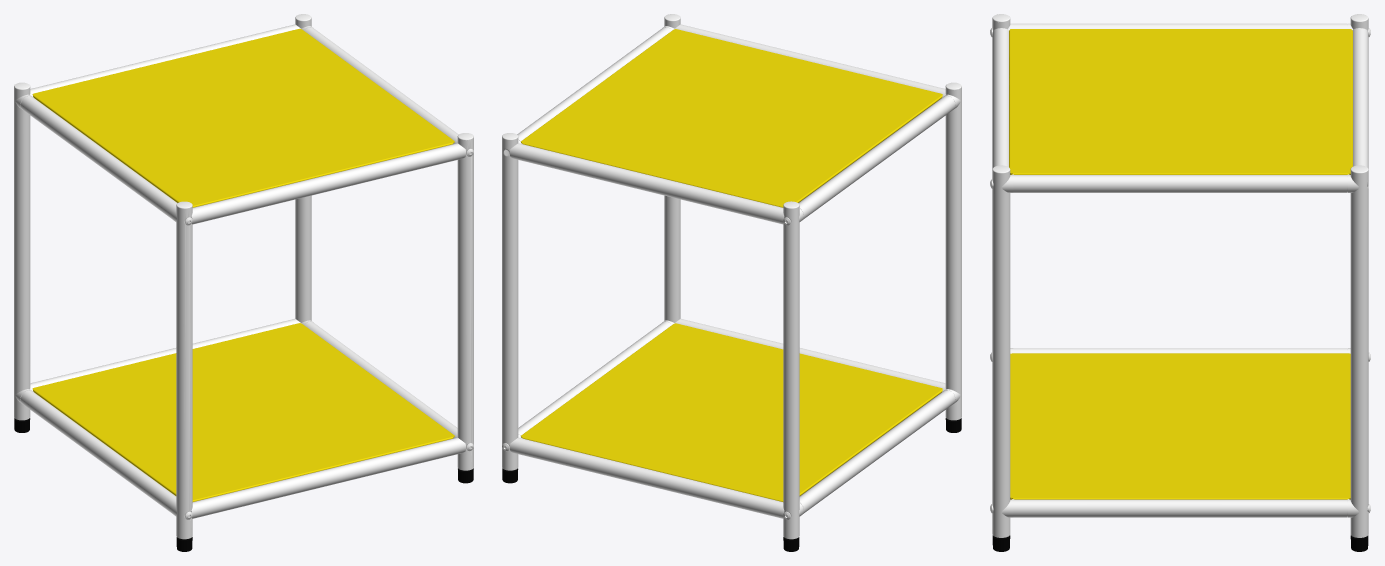
Rendered from 40x40x40-2-1-yellow_optimized_optimized.glb.
The picture shows the model from 3 angles, left to right: view 1: azimuth 30°, elevation 25°; view 2: azimuth 150°, elevation 25°; view 3: azimuth 270°, elevation 25°; orthographic projection. The views are drawn at different scales.
Visible parts, largest first — view 1: 直角鐵板-40x40-5 - 零件, 反-鐵管-40-354..4-1 - 零件, 圓形腳+調整器-1 - 零件; view 2: 直角鐵板-40x40-5 - 零件, 反-鐵管-40-354..4-1 - 零件, 圓形腳+調整器-1 - 零件; view 3: 直角鐵板-40x40-5 - 零件, 反-鐵管-40-354..4-1 - 零件, 圓形腳+調整器-1 - 零件.
Boxes of the visible parts, left/top/right/bottom form: 直角鐵板-40x40-5 - 零件: left=32, top=28, right=454, bottom=501; 反-鐵管-40-354..4-1 - 零件: left=14, top=14, right=473, bottom=539; 圓形腳+調整器-1 - 零件: left=14, top=418, right=473, bottom=551; 直角鐵板-40x40-5 - 零件: left=521, top=29, right=942, bottom=501; 反-鐵管-40-354..4-1 - 零件: left=502, top=14, right=961, bottom=539; 圓形腳+調整器-1 - 零件: left=502, top=418, right=961, bottom=551; 直角鐵板-40x40-5 - 零件: left=1009, top=29, right=1352, bottom=499; 反-鐵管-40-354..4-1 - 零件: left=990, top=14, right=1370, bottom=537; 圓形腳+調整器-1 - 零件: left=992, top=535, right=1368, bottom=551.
Size of the model in its own units: 0.3992 by 0.4453 by 0.4035.
